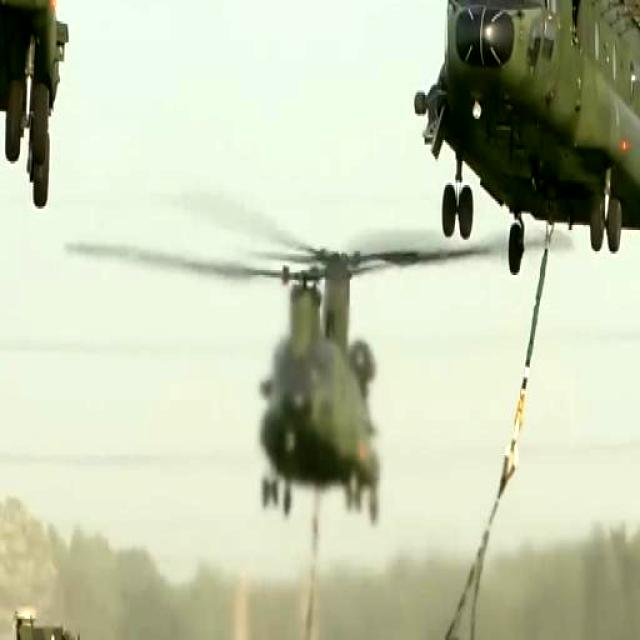drone: (121, 0, 640, 260), (166, 88, 414, 549)
